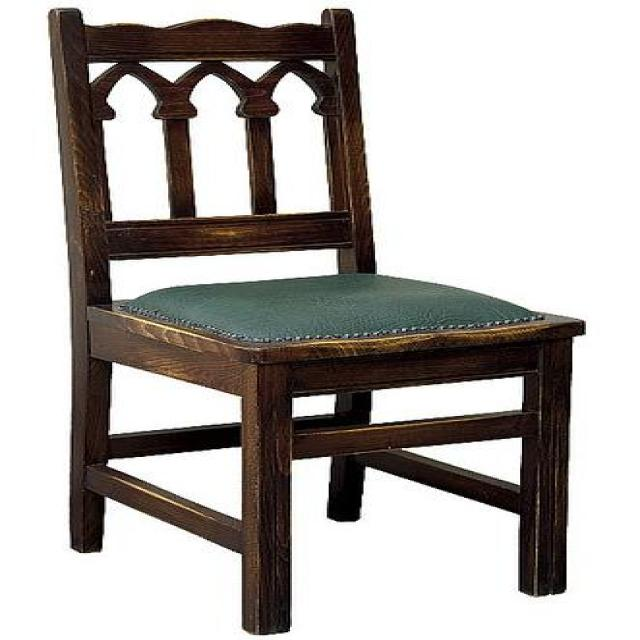chair: (46, 5, 586, 635)
